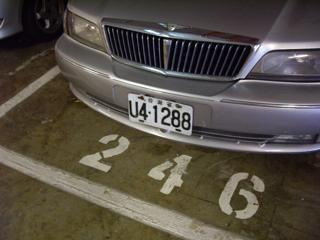plate: (125, 90, 194, 138)
